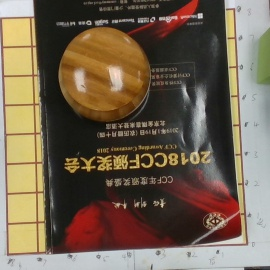chess: (58, 28, 150, 122)
